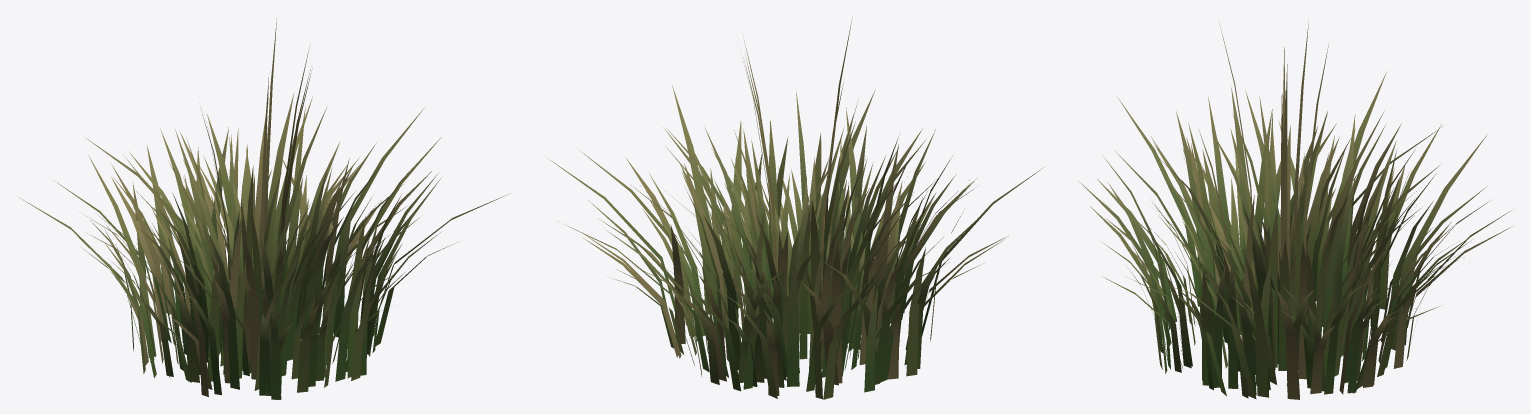
Rendered from grass_tussock_b.glb.
3 views of the same model, side by side, from view 1: azimuth 30°, elevation 25°; view 2: azimuth 150°, elevation 25°; view 3: azimuth 270°, elevation 25° (orthographic). The views are drawn at different scales.
Visible parts, largest first — view 1: grass_tussock_b; view 2: grass_tussock_b; view 3: grass_tussock_b.
Part boxes in pixels (x1=…): grass_tussock_b: x1=18, y1=18, x2=508, y2=399; grass_tussock_b: x1=545, y1=18, x2=1043, y2=399; grass_tussock_b: x1=1079, y1=20, x2=1513, y2=399.
Size of the model in its own units: 0.8921 by 0.6496 by 0.7902.
Materials: 1 (1 with a texture image).
